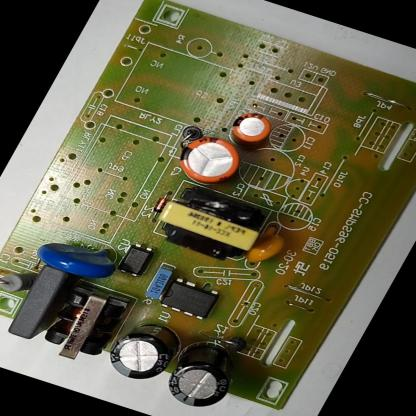Cap1: (169, 129, 249, 189)
Cap2: (226, 107, 279, 149)
Cap3: (101, 313, 189, 388)
Cap4: (157, 333, 251, 415)
MOSFET: (157, 277, 222, 322)
Mov: (31, 227, 124, 284)
Resistor: (0, 265, 36, 296)
Transformer: (148, 178, 274, 267), (35, 282, 131, 368)
